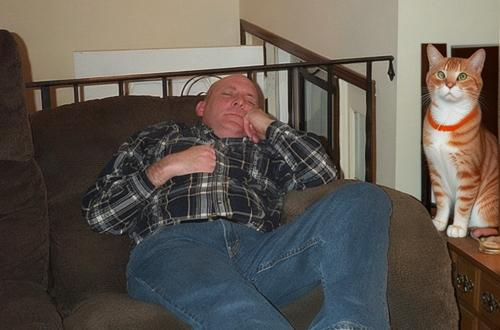cat: (421, 43, 500, 237)
person: (95, 77, 394, 330)
person/hand: (172, 144, 218, 174), (244, 108, 273, 143)
person/head: (195, 78, 261, 142)
sofa: (3, 88, 454, 330)
